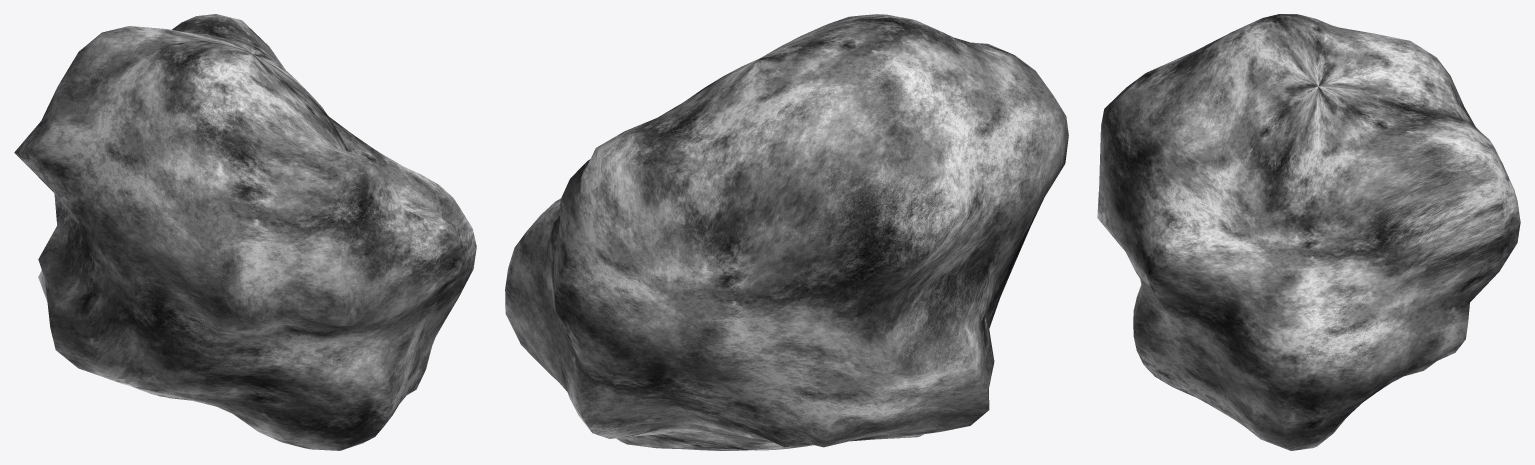
Rendered from Asteroid01f.fbx.
3 renders of one model, left to right at view 1: azimuth 30°, elevation 25°; view 2: azimuth 150°, elevation 25°; view 3: azimuth 270°, elevation 25°, orthographic. The views are drawn at different scales.
Parts seen in each view (by area): view 1: Asteroid01f; view 2: Asteroid01f; view 3: Asteroid01f.
Boxes of the visible parts, x1,y1,x2,y2 form: Asteroid01f: [14, 14, 476, 450]; Asteroid01f: [505, 14, 1068, 450]; Asteroid01f: [1097, 14, 1520, 450].
Bounding box in the file's own units: 811 × 755 × 846.
